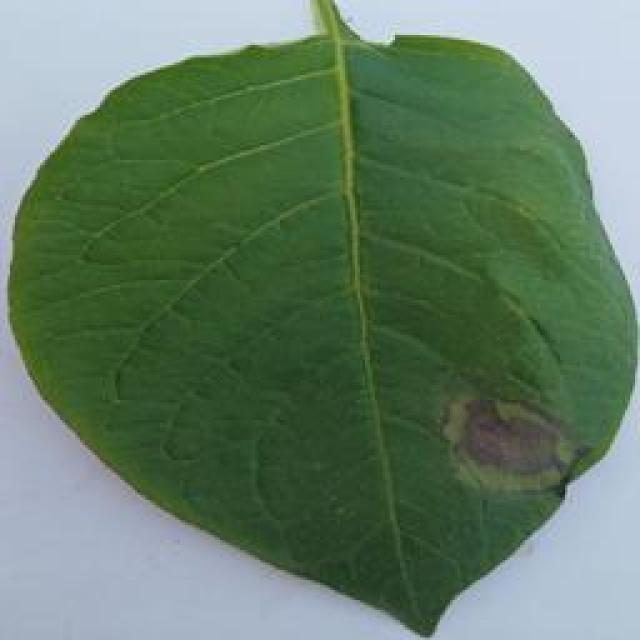Potato_Late_Blight: (9, 6, 626, 634)
